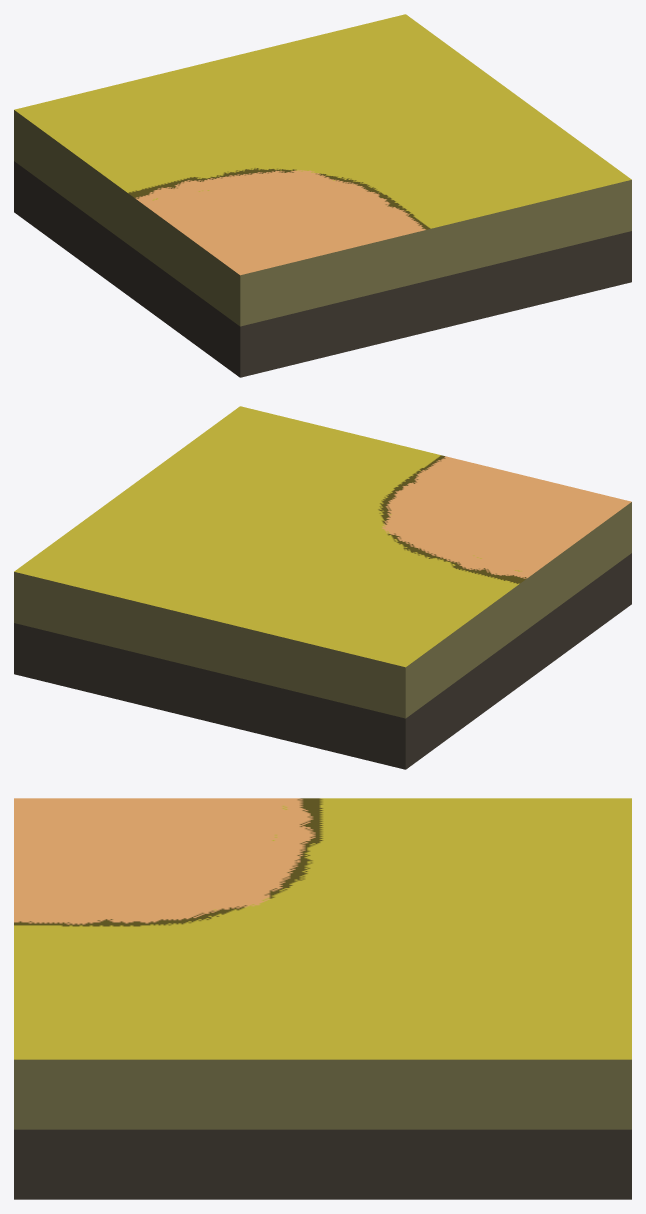
The model's file is tile1_1 sand top Corner.fbx.
3 renders of one model, top to bottom at view 1: azimuth 30°, elevation 25°; view 2: azimuth 150°, elevation 25°; view 3: azimuth 270°, elevation 25°, orthographic. The views are drawn at different scales.
Visible parts, largest first — view 1: Cube.001; view 2: Cube.001; view 3: Cube.001.
Part boxes in pixels (left/top/right/bottom): Cube.001: left=14, top=14, right=631, bottom=377; Cube.001: left=14, top=406, right=631, bottom=769; Cube.001: left=14, top=798, right=631, bottom=1199.
Size of the model in its own units: 200 by 50 by 200.
1 material, 1 textured.
